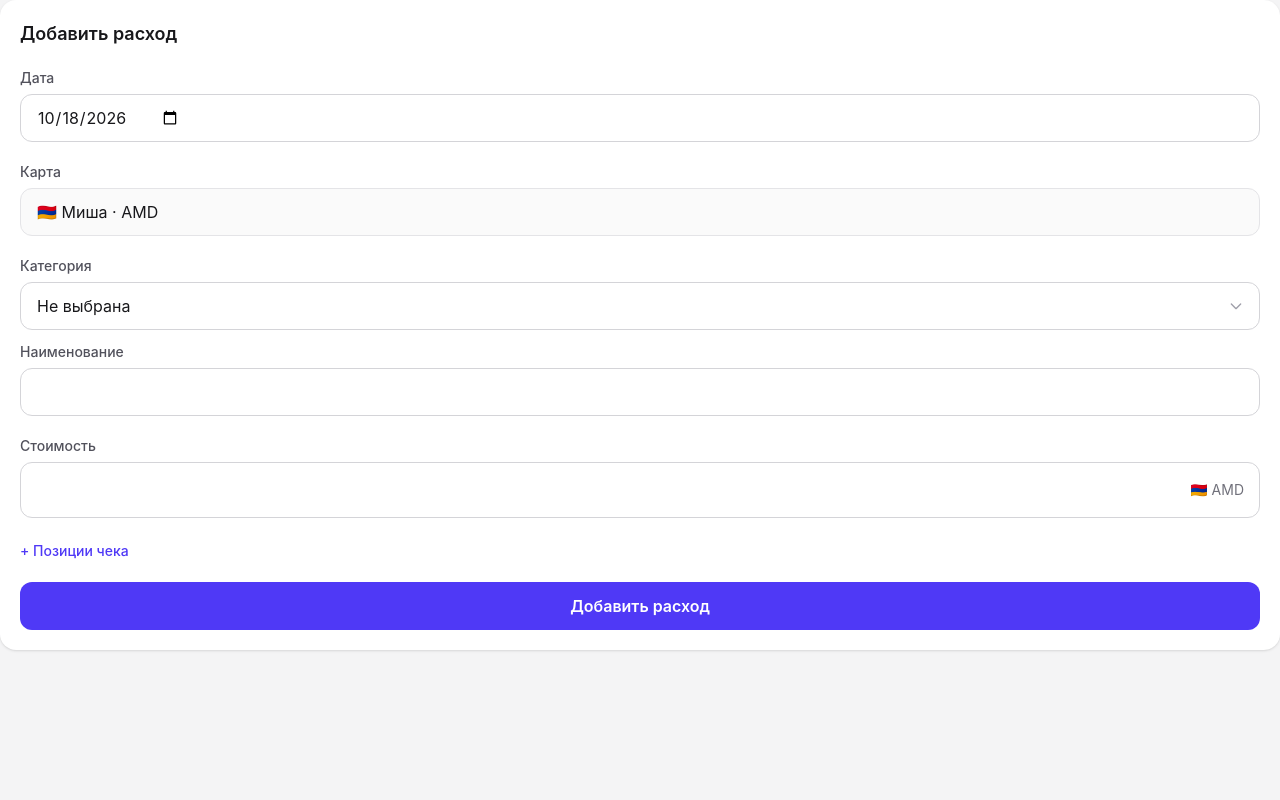
Scenario: фото на форме «Добавить» › включена: кнопка только в выбранных категориях
The width and height of the screenshot is (1280, 800).
Expected: the button "Добавить расход" is shown, [20,582,1260,630]
Expected: the button "Прикрепить фото чека" is not shown
Select "продукты" in the dropdown labelled "Категория" at {"x": 640, "y": 306}, box [20,282,1260,330]
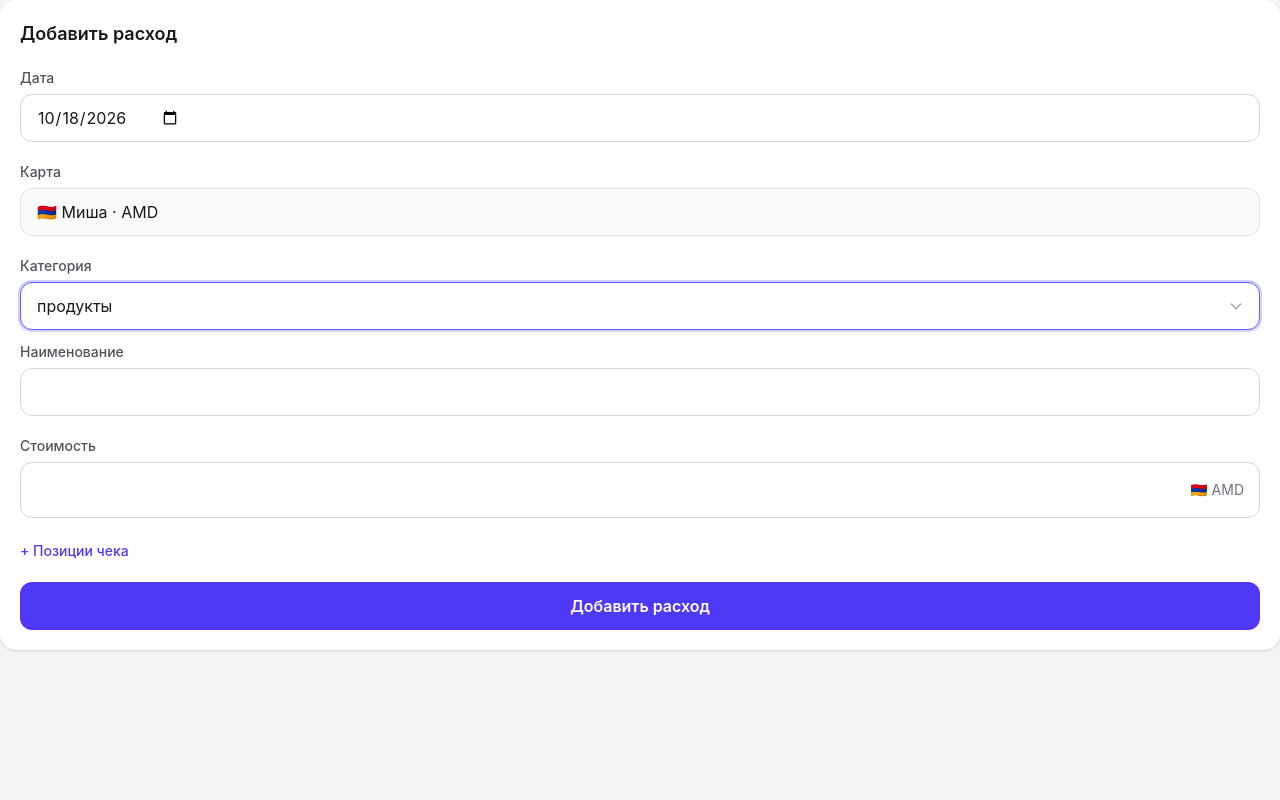
Expected: the button "Прикрепить фото чека" is not shown
Select "кафе" in the dropdown labelled "Категория" at {"x": 640, "y": 306}, box [20,282,1260,330]
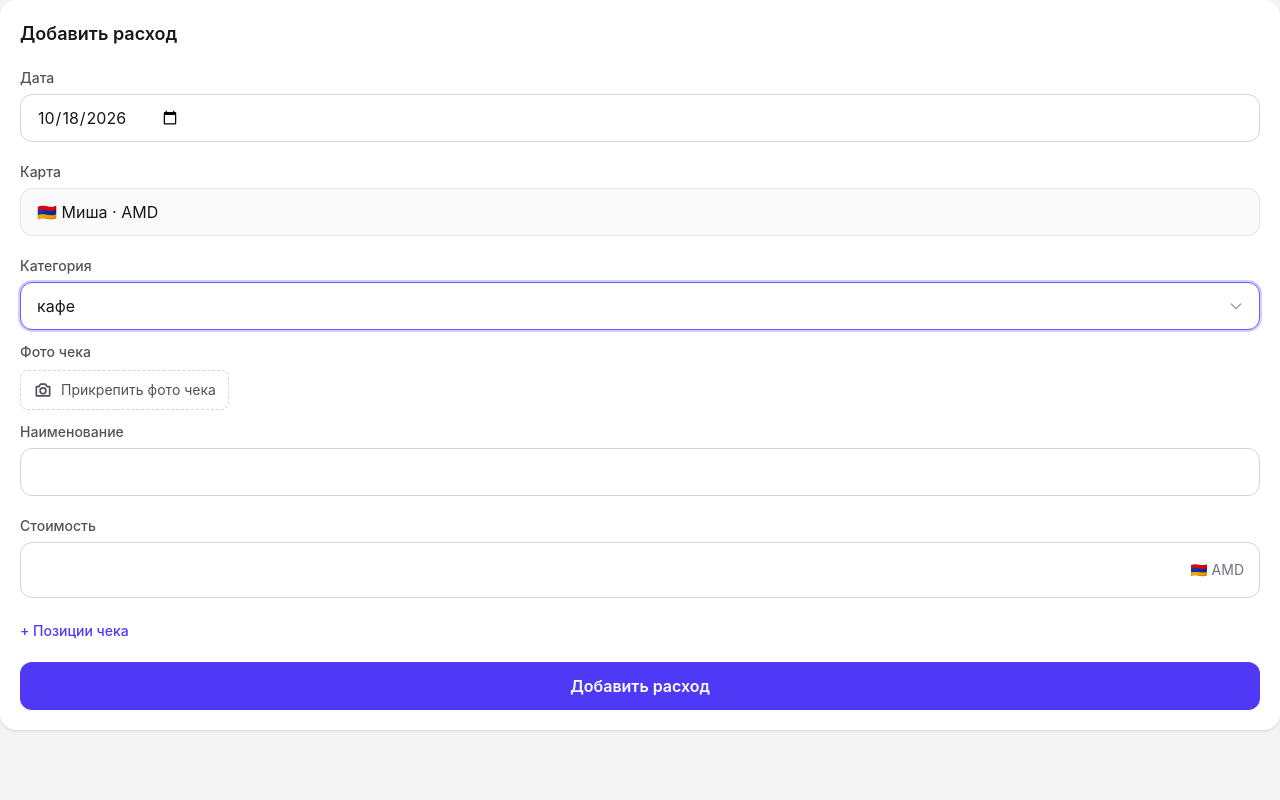
Expected: the button "Прикрепить фото чека" is shown, [20,370,229,410]
